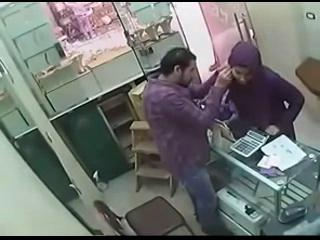Normal: (142, 48, 235, 234), (214, 40, 306, 142), (94, 196, 195, 236), (230, 129, 270, 158)
